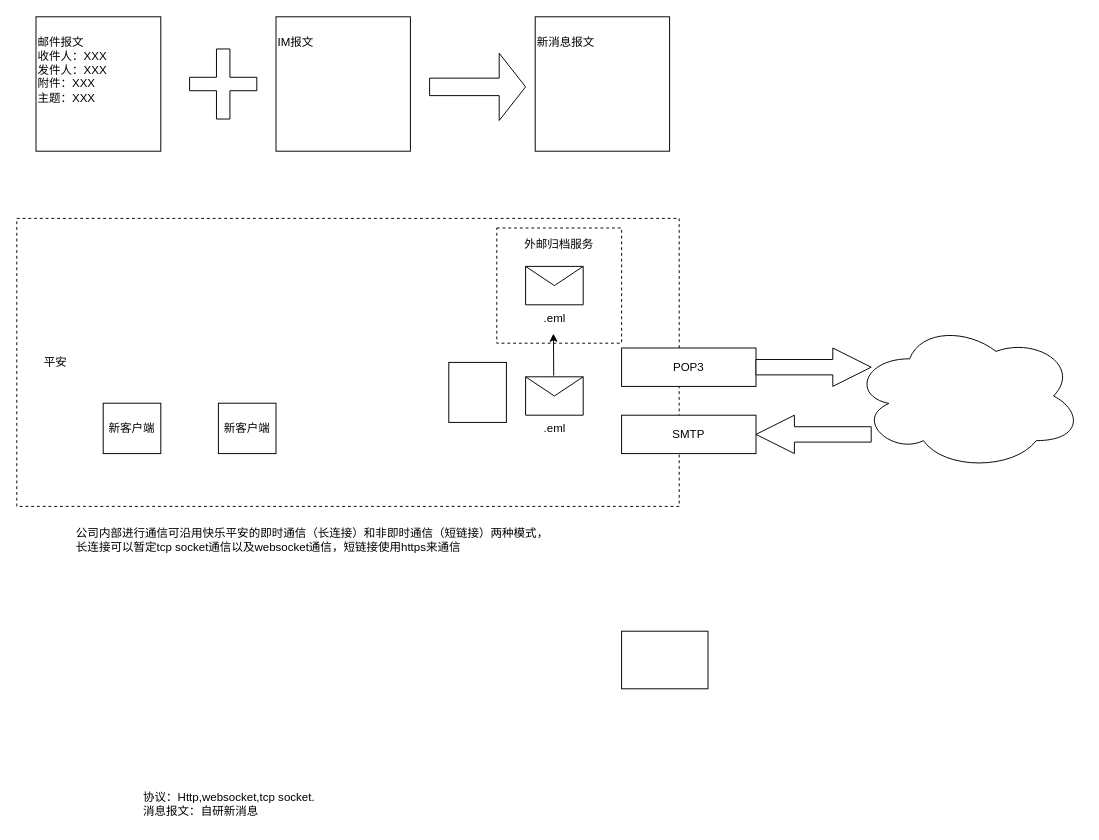
Image size: 1099x840. Some labels were removed from this diagram. Here are the shapes that lost their labels. From the top down, the centre of each, then its label:
the point at 477,391: 新消息转换服务
the point at 966,395: Internet
